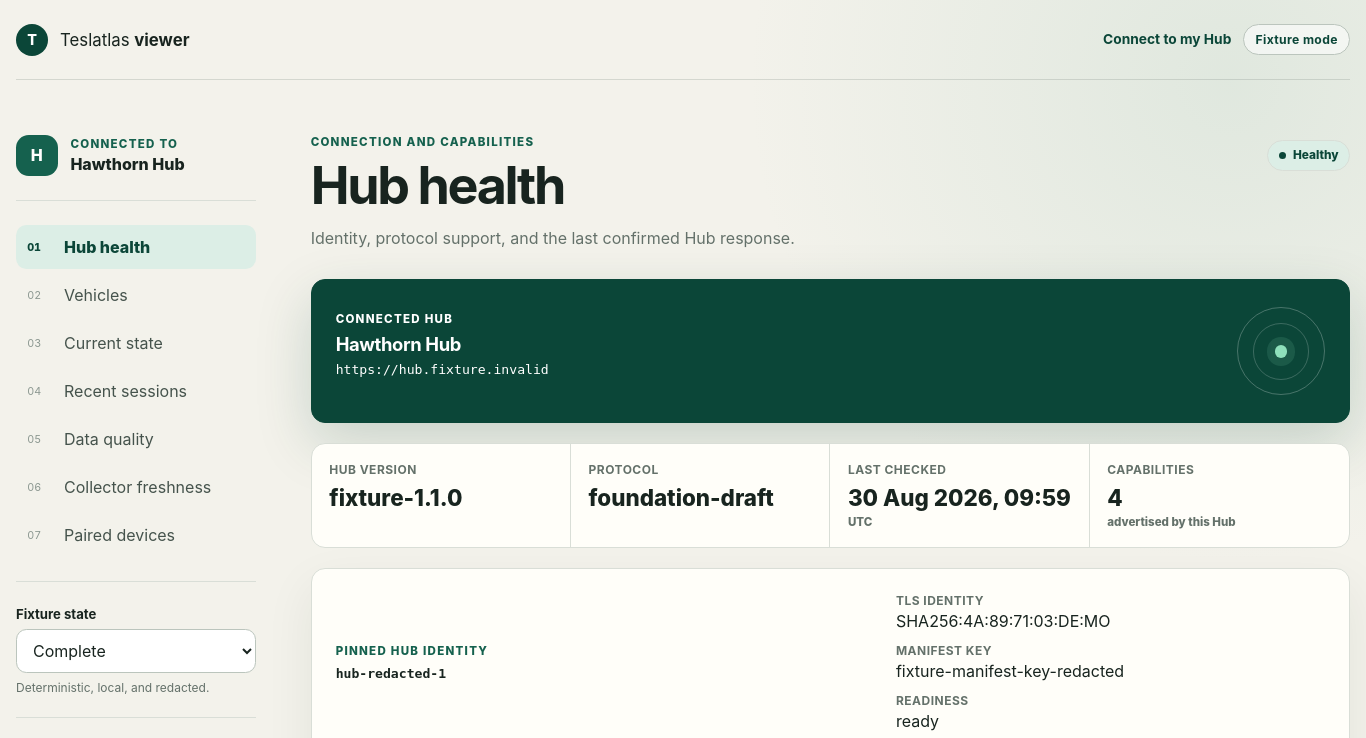
Scenario: reference views › distinguishes initial resource failures from successful empty results
Click the button "02 Vehicles".
click(136, 295)  # box [16, 273, 256, 317]
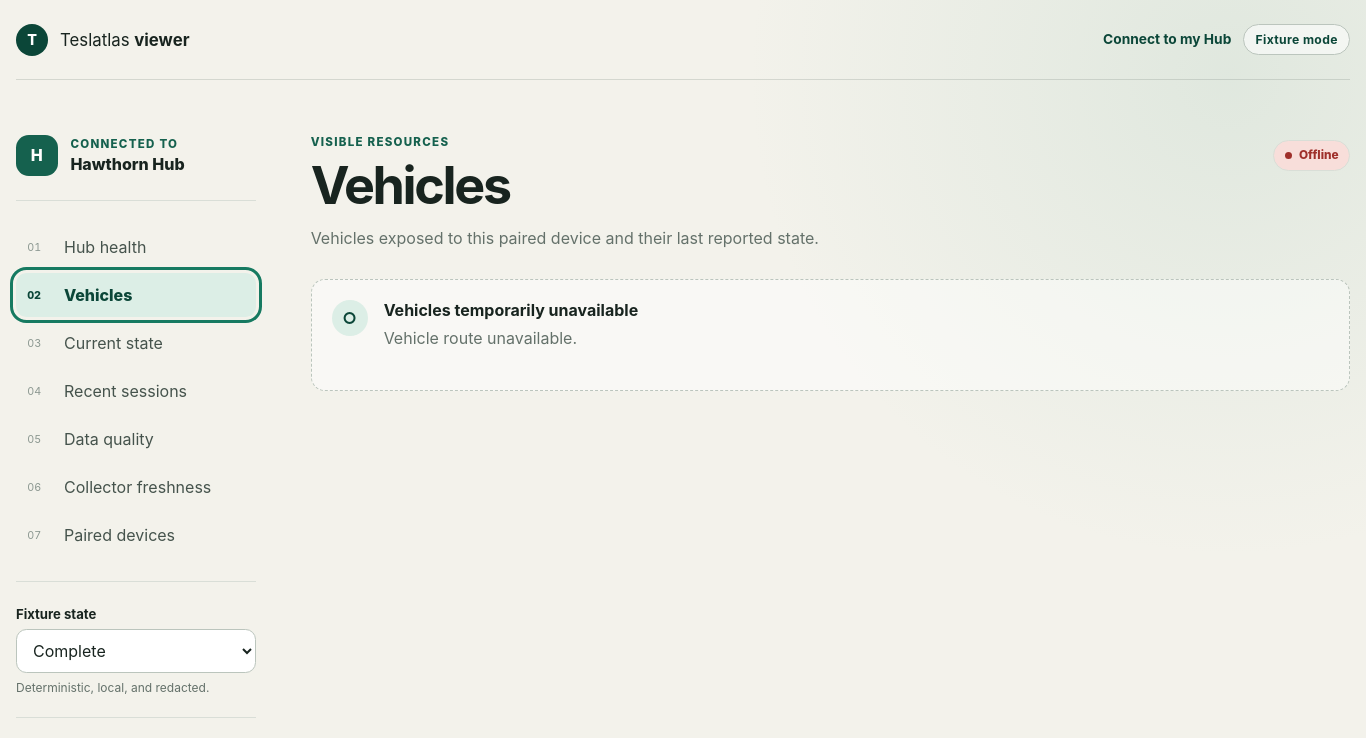
expect the text "Vehicles temporarily unavailable" is shown: met, box [384, 300, 638, 320]
Click the button "03 Current state".
click(136, 343)  # box [16, 321, 256, 365]
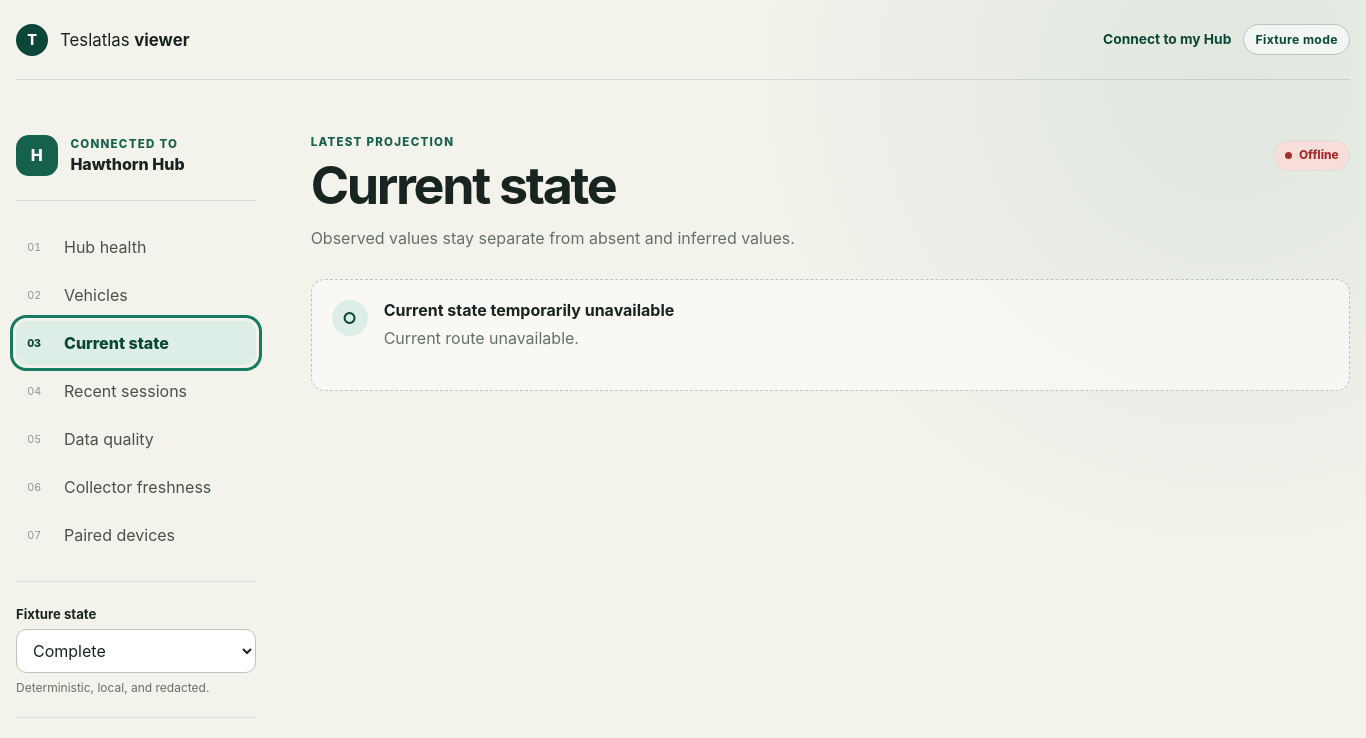
expect the text "Current state temporarily unavailable" is shown: met, box [384, 300, 674, 320]
Click the button "04 Recent sessions".
click(136, 391)  # box [16, 369, 256, 413]
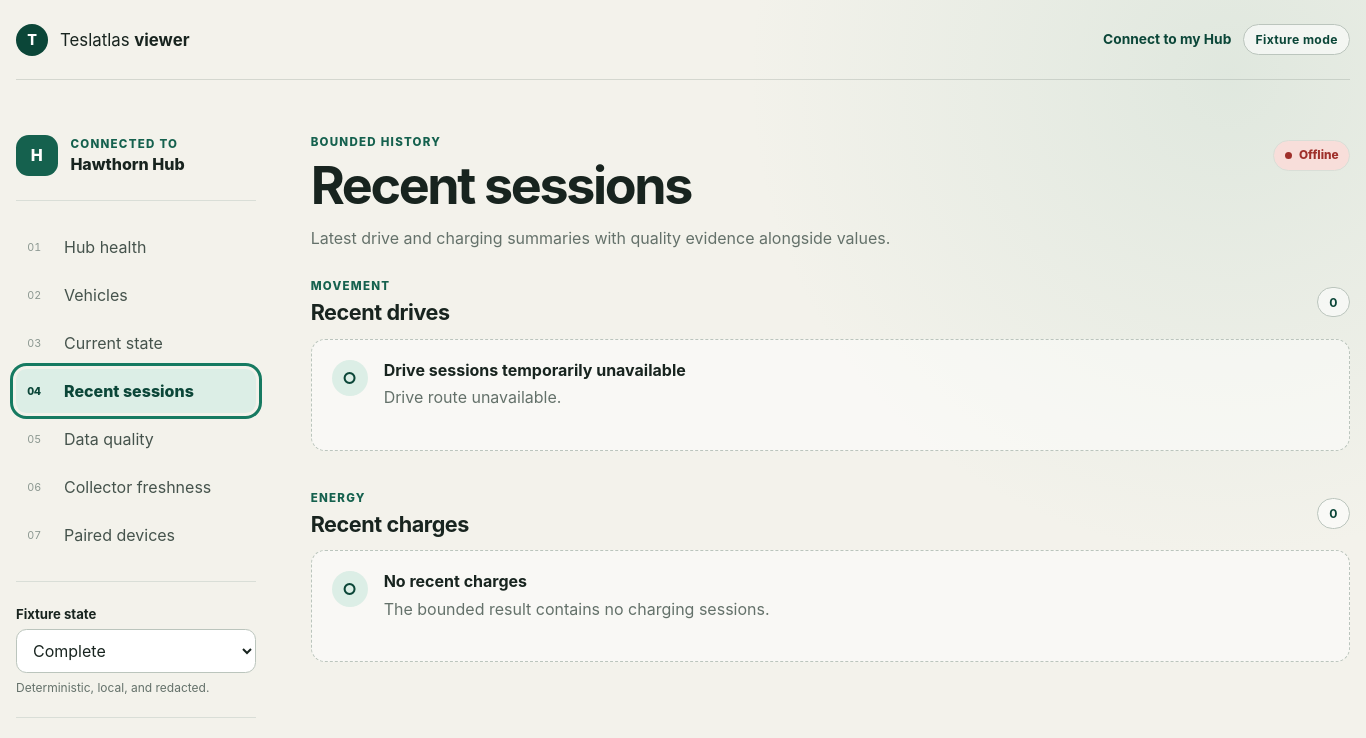
expect the text "Drive sessions temporarily unavailable" is shown: met, box [384, 360, 686, 380]
